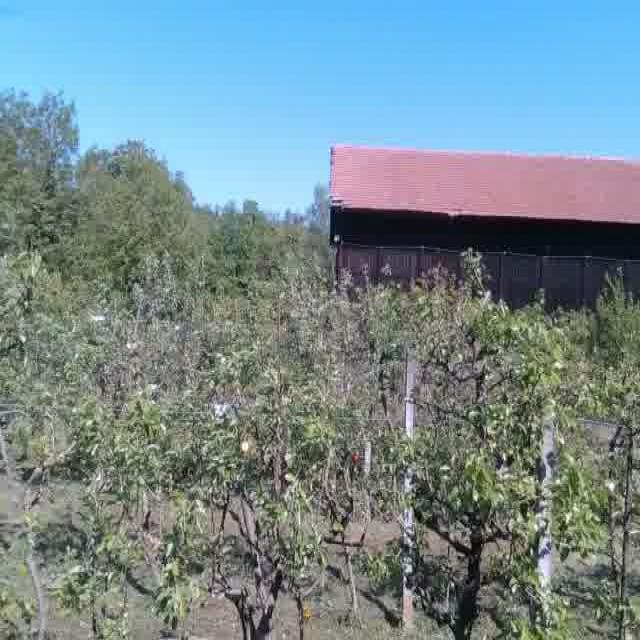red: (352, 450, 360, 465)
yellow: (299, 603, 315, 622), (238, 441, 252, 454)
